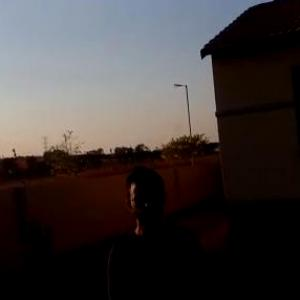follow: (105, 154, 222, 299)
